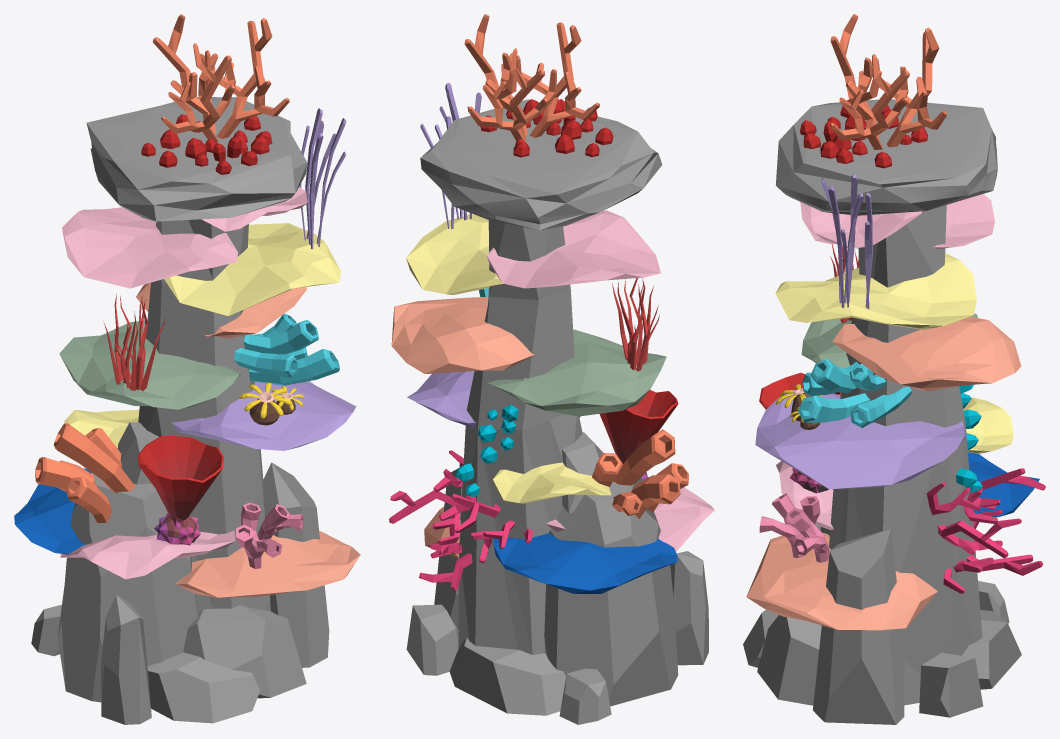
The model's file is Coral_reef_003.glb.
3 renders of one model, left to right at view 1: azimuth 30°, elevation 25°; view 2: azimuth 150°, elevation 25°; view 3: azimuth 270°, elevation 25°, orthographic. The views are drawn at different scales.
Visible parts, largest first — view 1: Coral_reef_003; view 2: Coral_reef_003; view 3: Coral_reef_003.
Part boxes in pixels (x1,y1,x2,y2): Coral_reef_003: (14,14,360,724); Coral_reef_003: (389,14,714,724); Coral_reef_003: (743,14,1045,724).
Bounding box in the file's own units: 2.35 × 4.98 × 2.11.
1 material, 1 textured.
